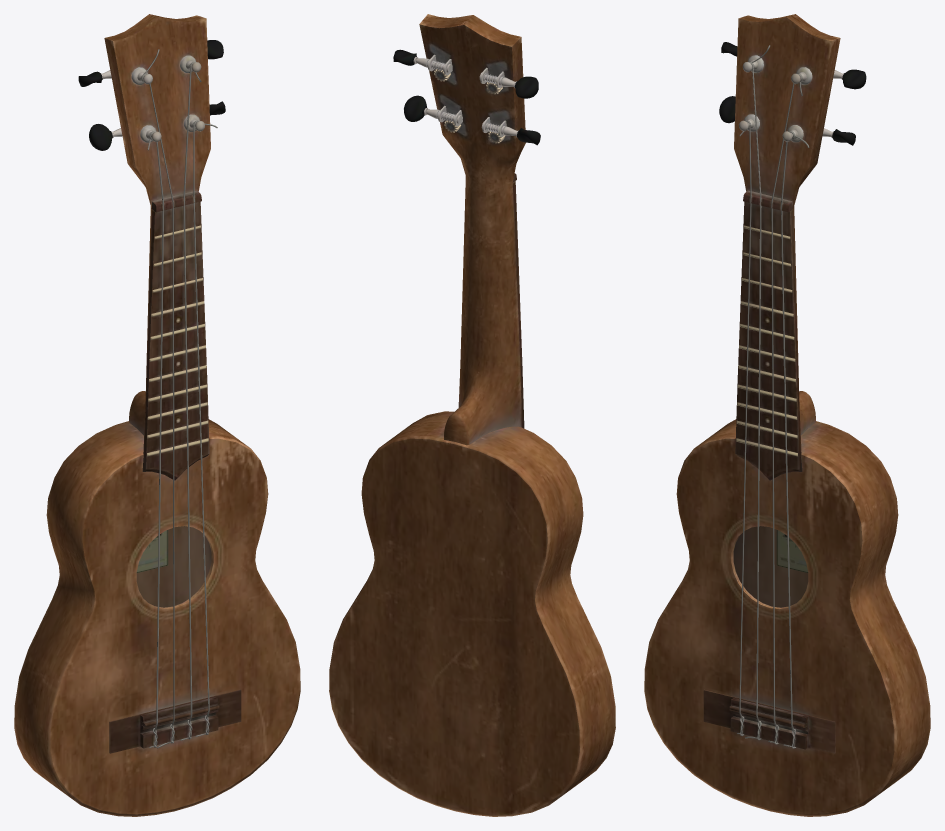
Rendered from ukulele.glb.
The picture shows the model from 3 angles, left to right: view 1: azimuth 30°, elevation 25°; view 2: azimuth 150°, elevation 25°; view 3: azimuth 330°, elevation 25°; orthographic projection.
Parts seen in each view (by area): view 1: ukulele_0; view 2: ukulele_0; view 3: ukulele_0.
Boxes of the visible parts, box(x1,y1,x2,y2) form: ukulele_0: box(14, 14, 300, 816); ukulele_0: box(329, 14, 615, 816); ukulele_0: box(644, 14, 930, 816).
Bounding box in the file's own units: 0.1779 × 0.527 × 0.0508.
Materials: 1 (1 with a texture image).
